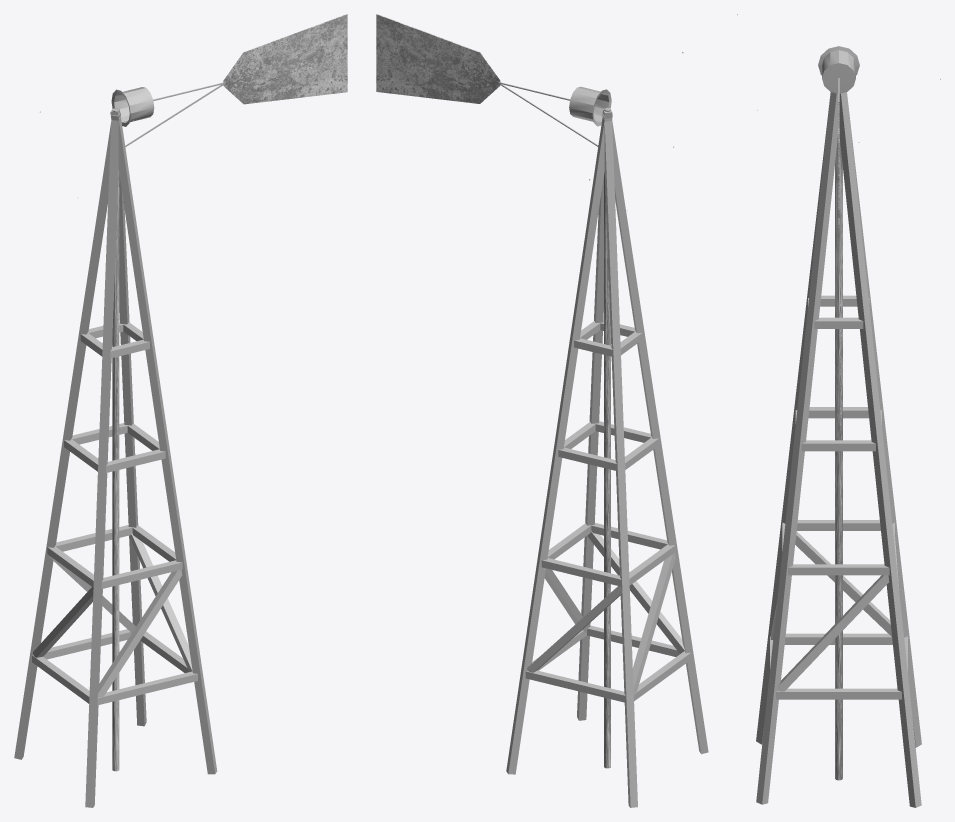
The model's file is molino.fbx.
3 renders of one model, left to right at view 1: azimuth 30°, elevation 25°; view 2: azimuth 150°, elevation 25°; view 3: azimuth 270°, elevation 25°, orthographic. The views are drawn at different scales.
Visible parts, largest first — view 1: Object002; view 2: Object002; view 3: Object002.
Part boxes in pixels (left/top/right/bottom): Object002: left=14, top=14, right=347, bottom=807; Object002: left=376, top=14, right=708, bottom=807; Object002: left=737, top=14, right=940, bottom=807.
Bounding box in the file's own units: 4.18 × 9.38 × 2.28.
